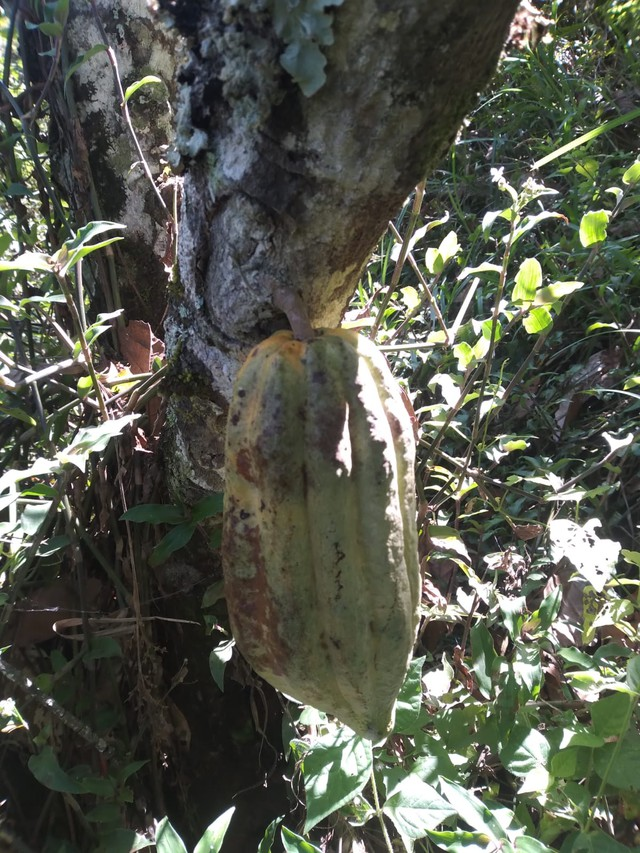moniliophthora perniciosa: (217, 319, 428, 745)
